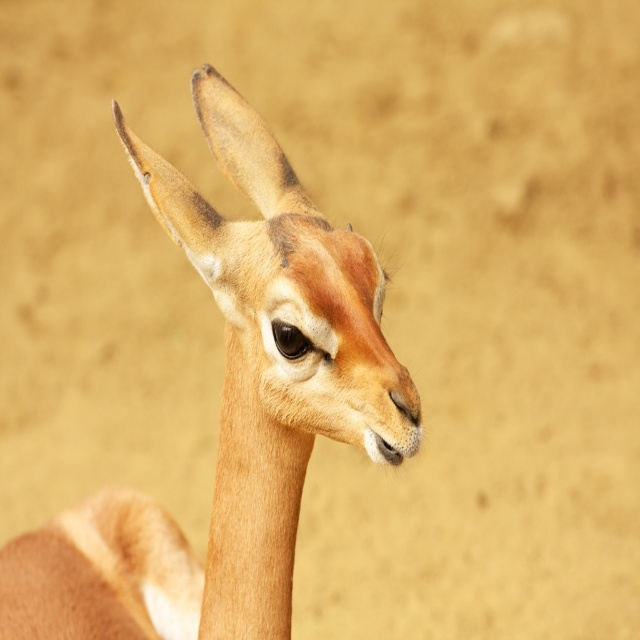Deer: (0, 62, 422, 639)
